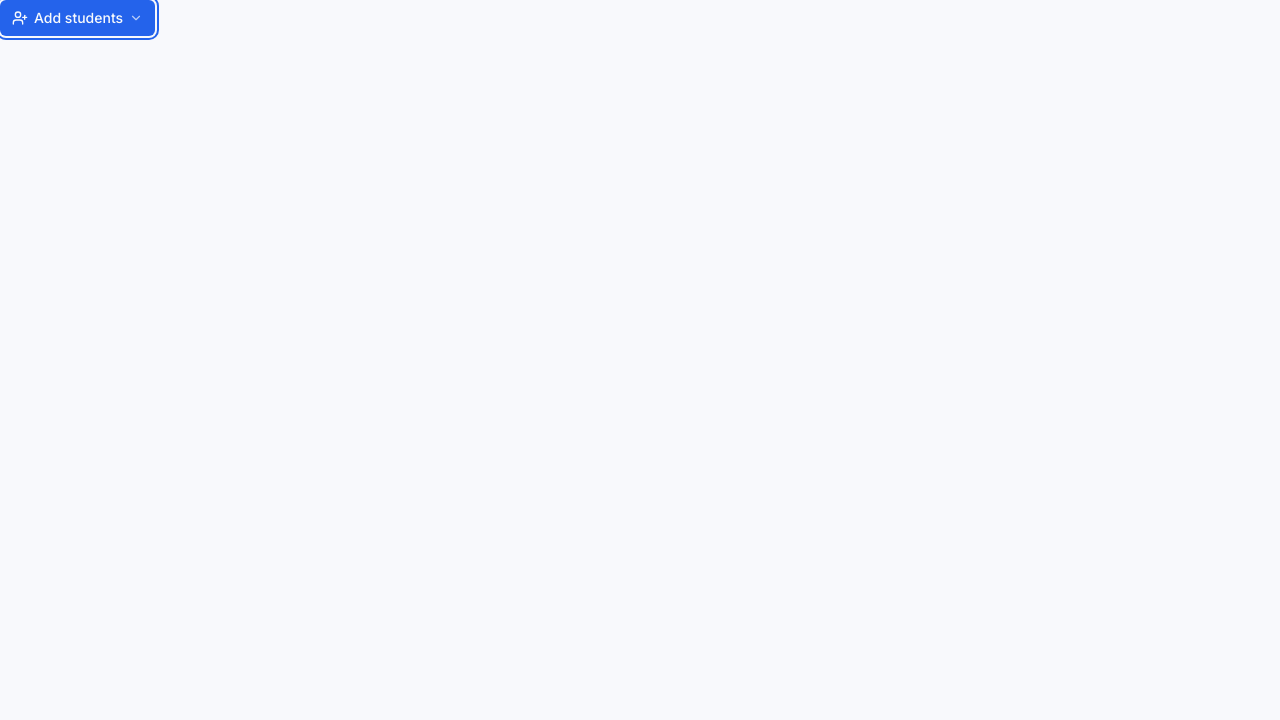
Scenario: AddStudentsMenu › keyboard: open the menu, choose Share, Done returns focus to Add students
The width and height of the screenshot is (1280, 720).
Press Enter
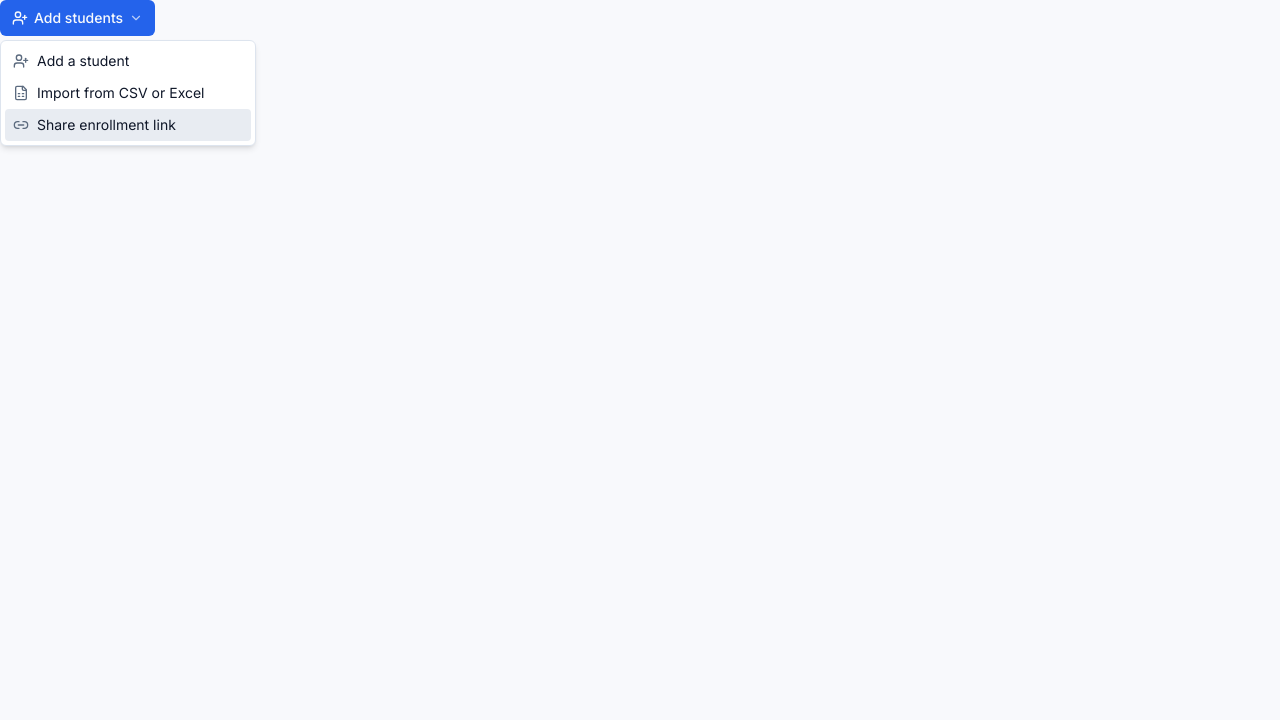
Press Enter
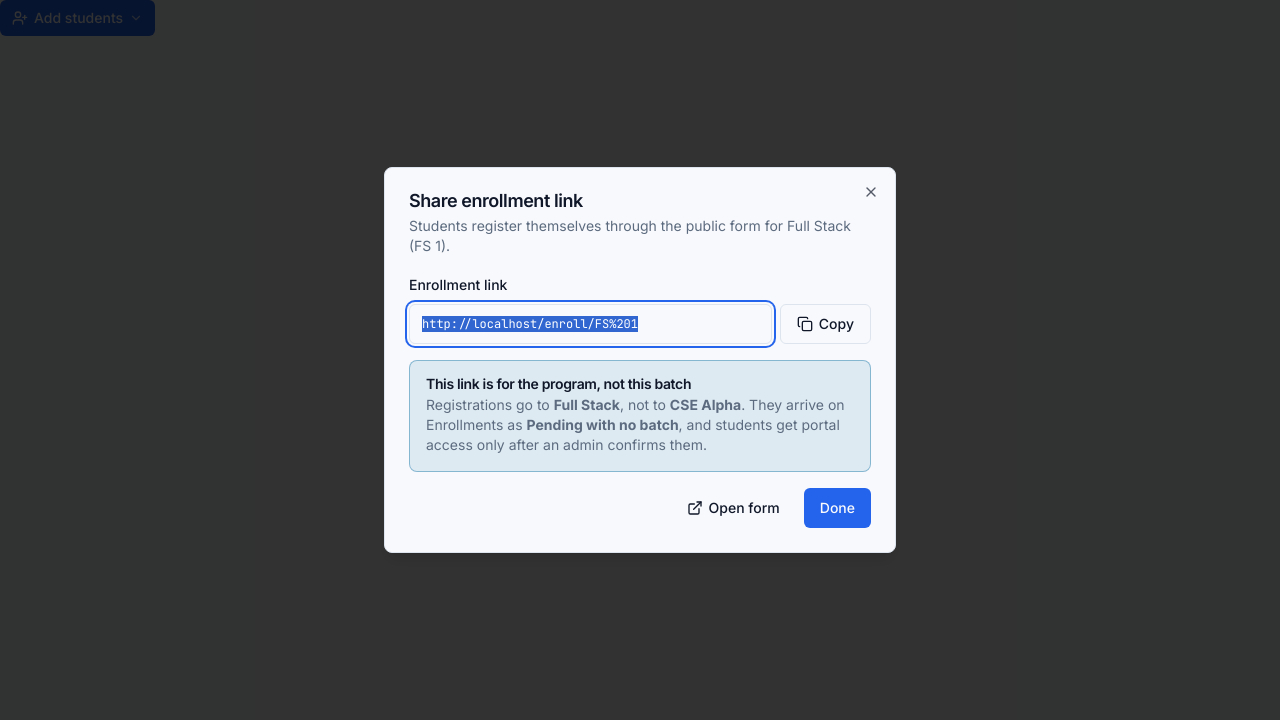
Click the button "Done" at [837, 508], box [804,488,871,528]
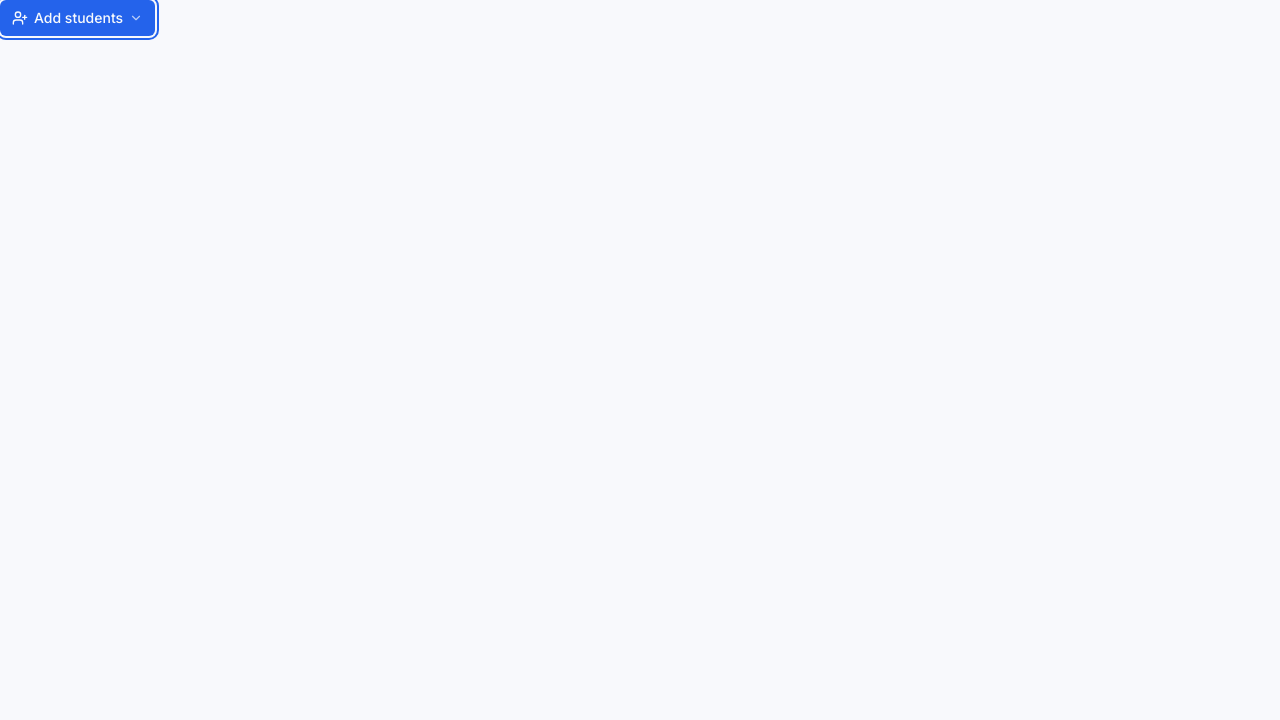
Now the dialog is gone
